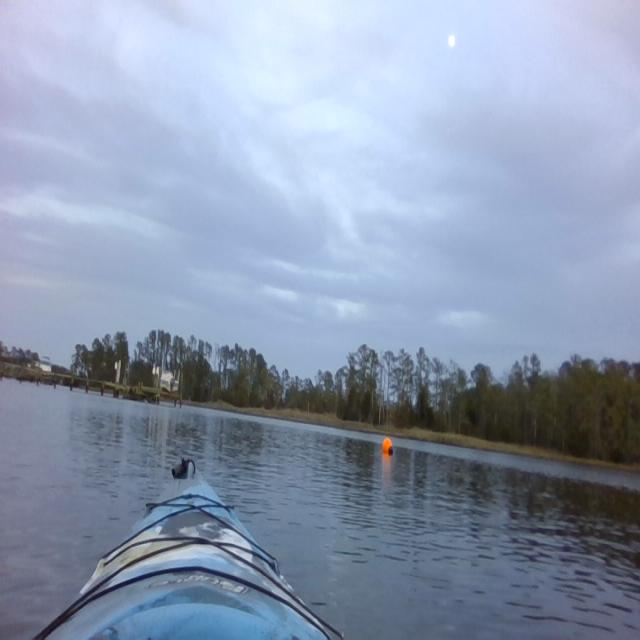Buoy: (379, 434, 395, 458)
